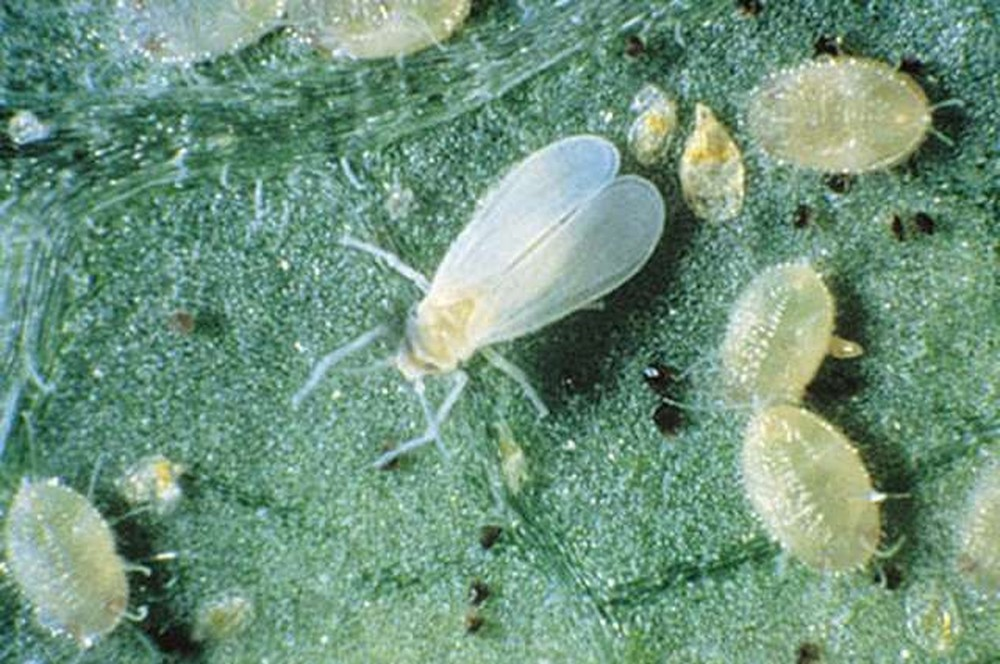Mosca Blanca: (299, 118, 677, 490)
